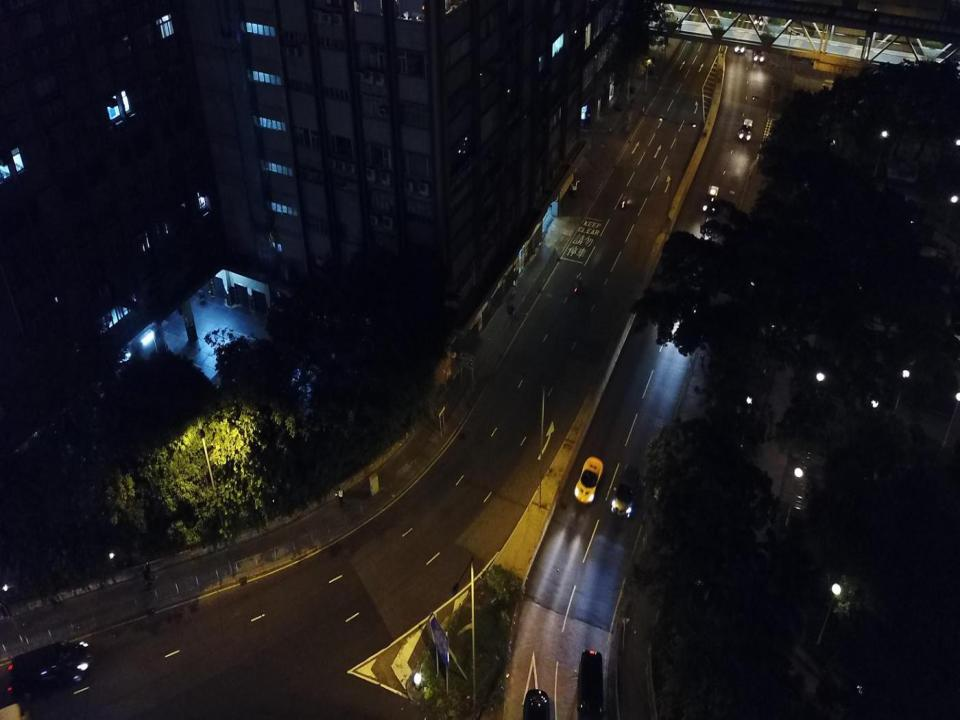car: (8, 638, 91, 700), (610, 460, 640, 520), (574, 455, 604, 503), (704, 184, 719, 213), (739, 118, 754, 142), (735, 33, 747, 54), (754, 45, 764, 61)
van: (575, 650, 606, 719)
